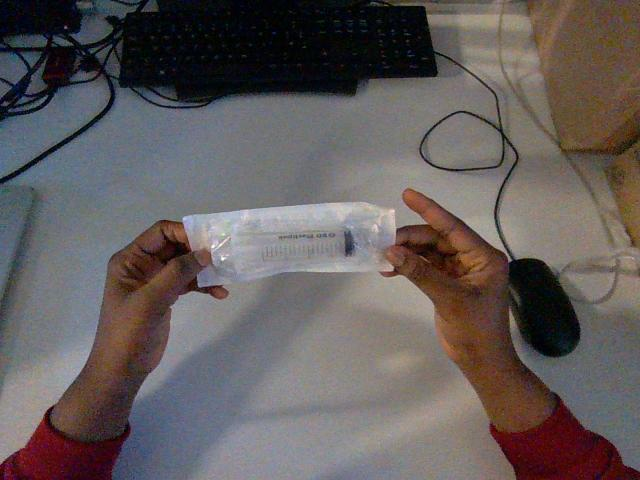syringe: (183, 202, 395, 286)
